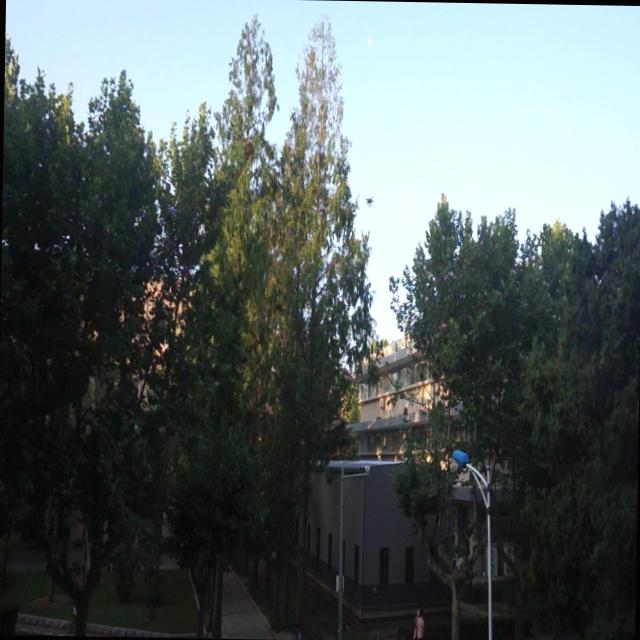drone: (364, 191, 376, 208)
